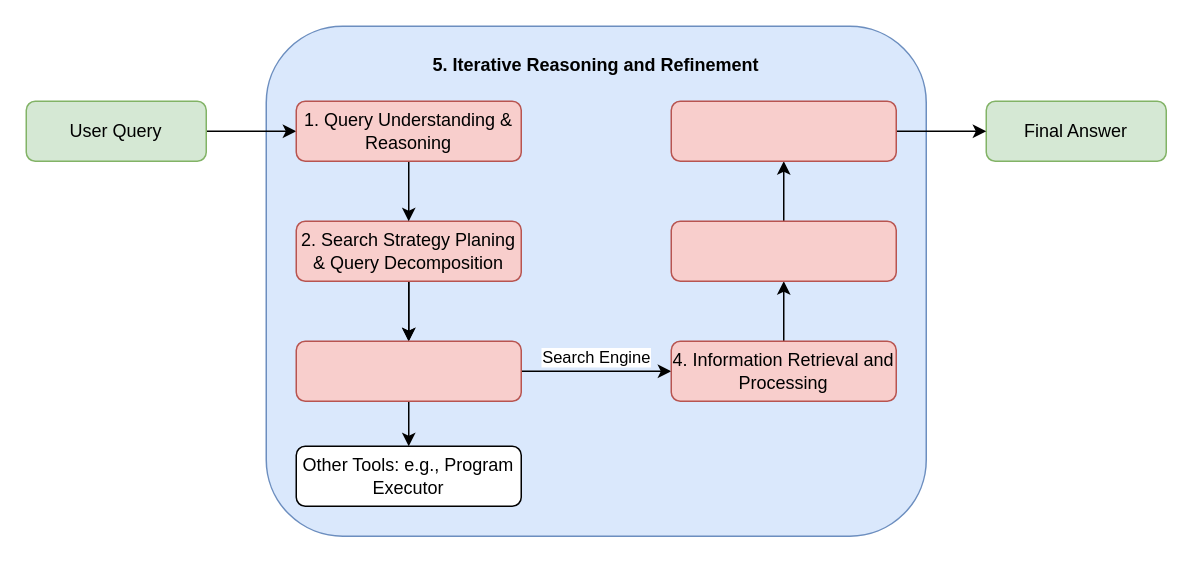
Image size: 1193x563. Some labels were removed from this diagram. The shapes that lost their labels are listed below. From the top down, each one's box as (x1, y1, x2, y2) in pixels, then its label:
(670, 100, 896, 161): 7. Answer Synthesis and Generation
(670, 220, 896, 281): 6. Knowledge Fusion and Integration
(295, 340, 521, 401): 3. Tool Invocation
